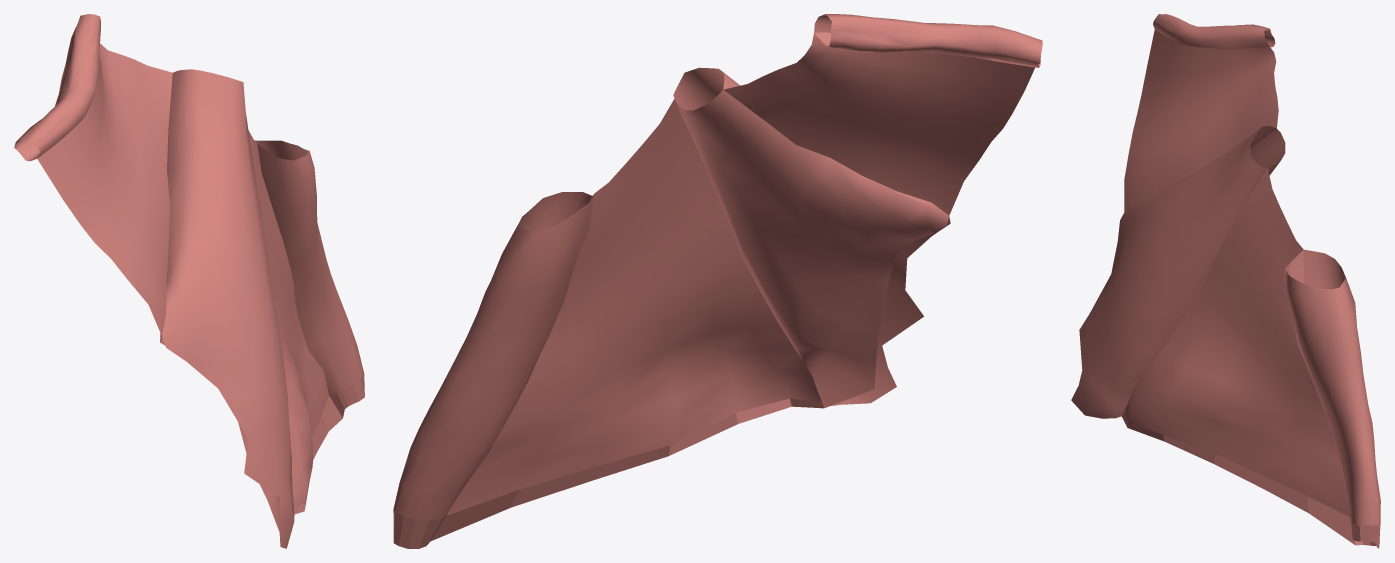
The picture shows the model from 3 angles, left to right: view 1: azimuth 30°, elevation 25°; view 2: azimuth 150°, elevation 25°; view 3: azimuth 270°, elevation 25°; orthographic projection. The views are drawn at different scales.
Parts seen in each view (by area): view 1: ZA_6900eece38b9a1f9; view 2: ZA_6900eece38b9a1f9; view 3: ZA_6900eece38b9a1f9.
Part boxes in pixels (x1=…): ZA_6900eece38b9a1f9: x1=14, y1=14, x2=364, y2=548; ZA_6900eece38b9a1f9: x1=393, y1=14, x2=1042, y2=548; ZA_6900eece38b9a1f9: x1=1071, y1=14, x2=1380, y2=548.
Bounding box in the file's own units: 0.1514 × 0.1598 × 0.1123.
